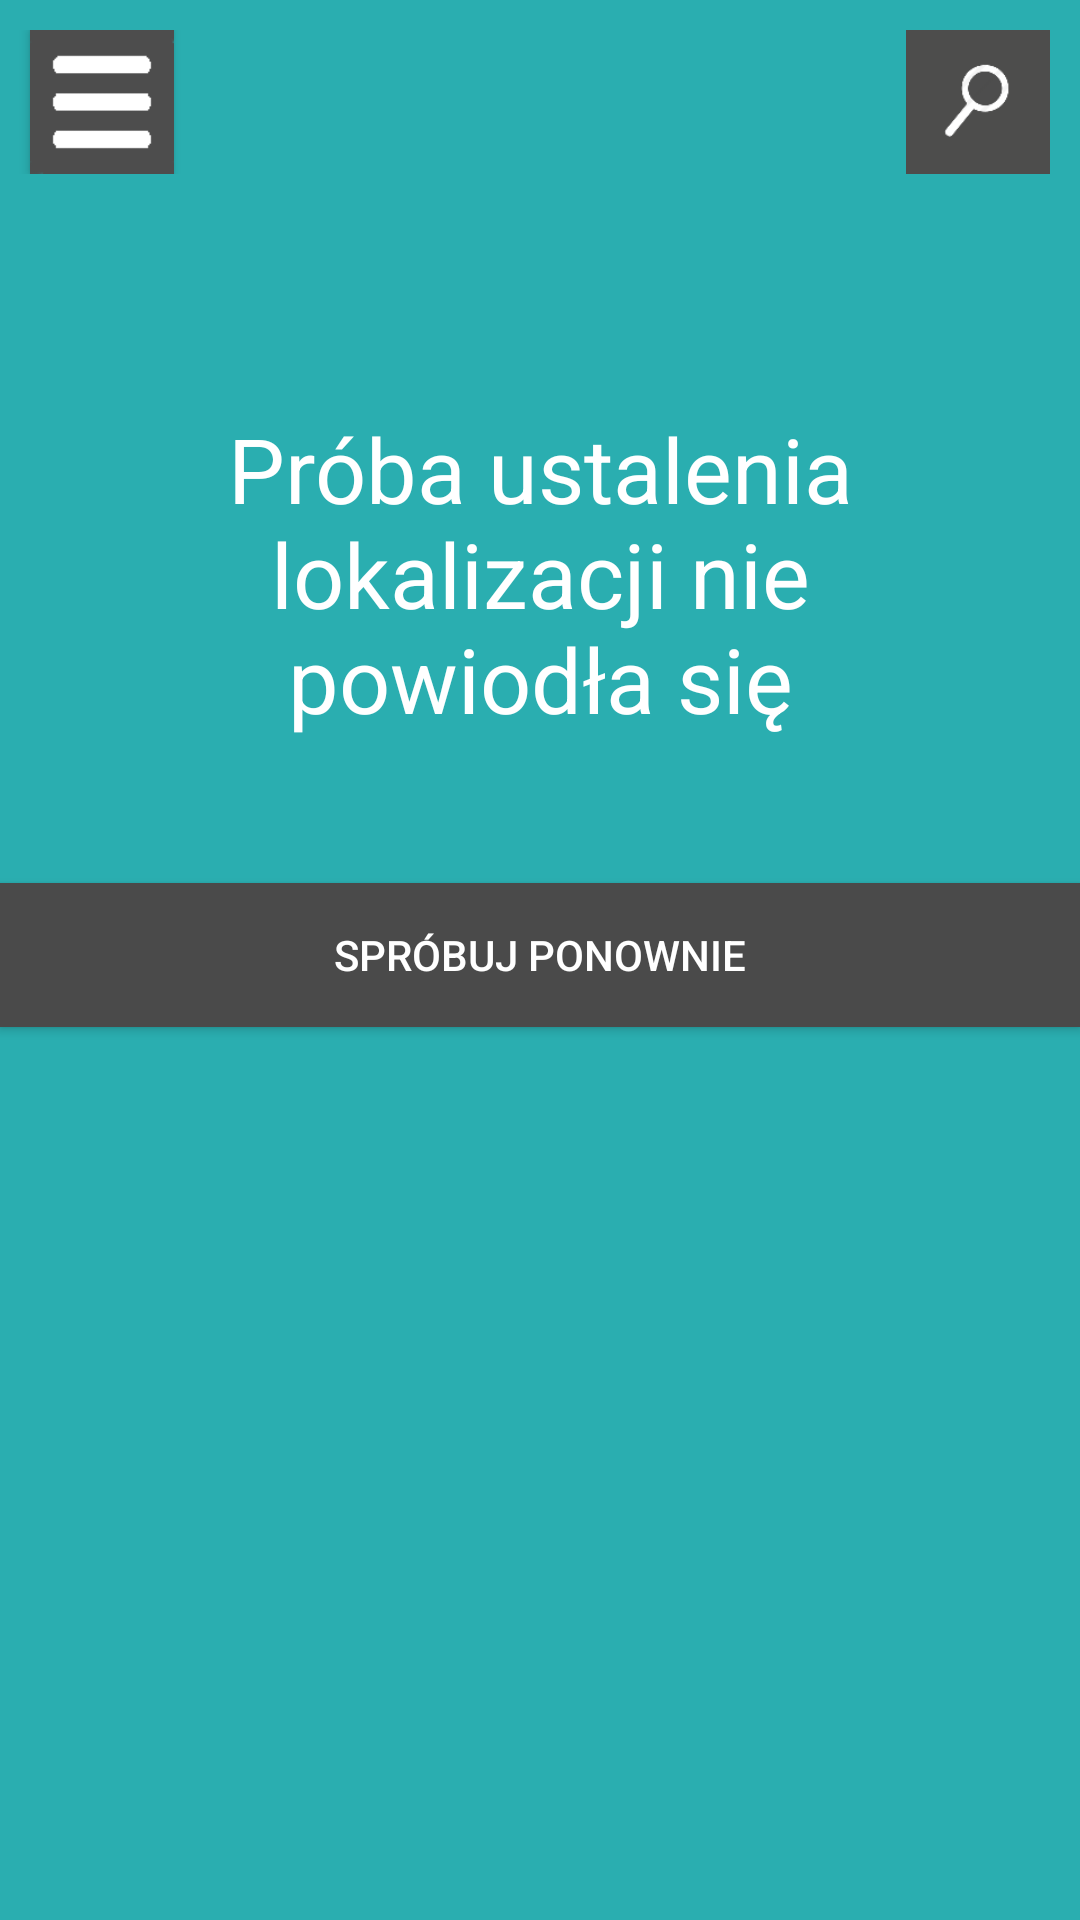

Locate icon controls on the screen. Image size 1080w x 1920h, boxes as [x1,y1,x2,y2].
lupa: [906,30,1050,174]
menu: [30,30,174,174]
